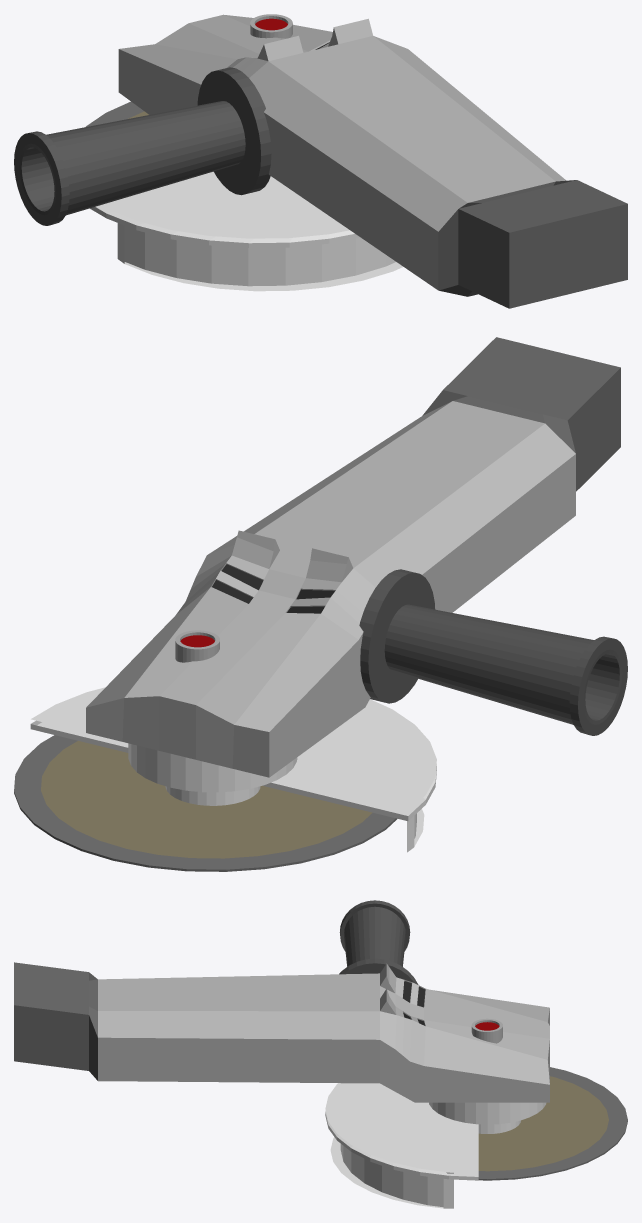
Rendered from grinder.fbx.
3 views of the same model, one above another, from view 1: azimuth 30°, elevation 25°; view 2: azimuth 150°, elevation 25°; view 3: azimuth 270°, elevation 25° (orthographic). The views are drawn at different scales.
Visible parts, largest first — view 1: Cube, Circle.001, Cylinder.002, Cylinder.003, Circle; view 2: Cube, Circle, Cylinder.002, Circle.001, Cylinder.001, Cylinder.003, Cylinder; view 3: Cube, Circle.001, Circle, Cylinder.002, Cylinder.001, Cylinder.003.
Part boxes in pixels (left/top/right/bottom): Cube: left=118, top=14, right=627, bottom=308; Circle.001: left=90, top=171, right=403, bottom=291; Cylinder.002: left=14, top=67, right=271, bottom=225; Cylinder.003: left=250, top=14, right=292, bottom=38; Circle: left=86, top=101, right=148, bottom=126; Cube: left=86, top=337, right=620, bottom=777; Circle: left=14, top=735, right=397, bottom=871; Cylinder.002: left=359, top=569, right=627, bottom=735; Circle.001: left=30, top=687, right=436, bottom=852; Cylinder.001: left=128, top=743, right=297, bottom=792; Cylinder.003: left=175, top=630, right=219, bottom=662; Cylinder: left=165, top=786, right=260, bottom=805; Cube: left=14, top=962, right=549, bottom=1102; Circle.001: left=325, top=1083, right=478, bottom=1208; Circle: left=478, top=1067, right=627, bottom=1180; Cylinder.002: left=339, top=900, right=418, bottom=984; Cylinder.001: left=429, top=1102, right=546, bottom=1124; Cylinder.003: left=471, top=1018, right=502, bottom=1043.
Bounding box in the file's own units: 289 × 130 × 438.
